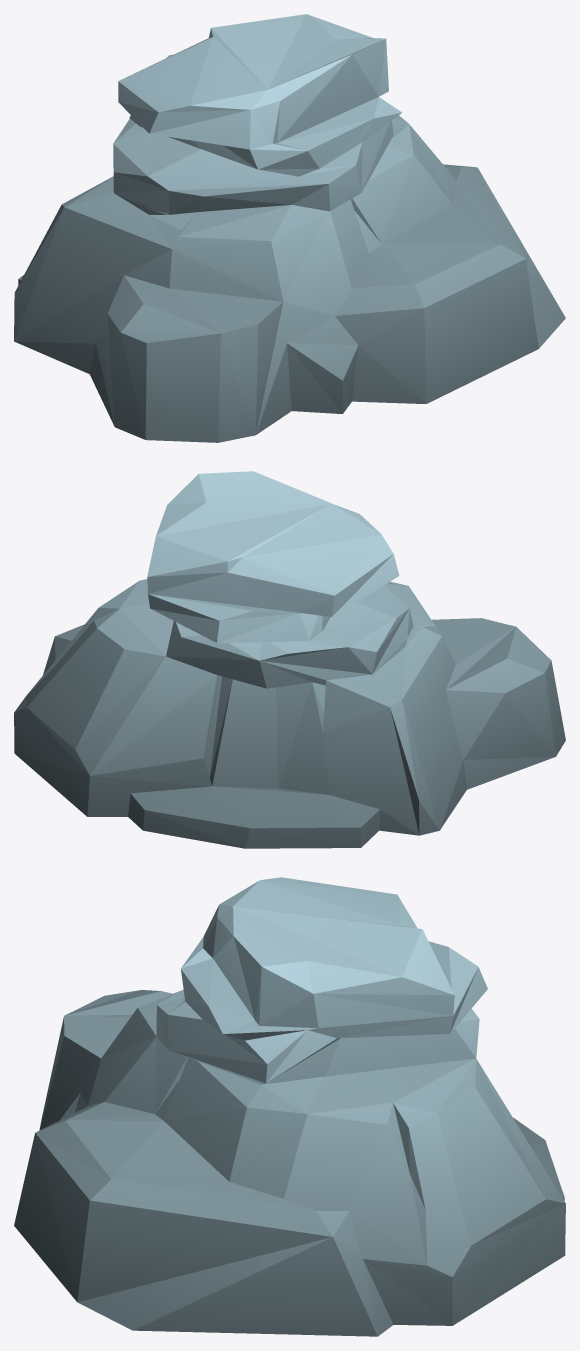
The model's file is stone large gray blue 4.fbx.
3 views of the same model, one above another, from view 1: azimuth 30°, elevation 25°; view 2: azimuth 150°, elevation 25°; view 3: azimuth 270°, elevation 25° (orthographic). The views are drawn at different scales.
Parts seen in each view (by area): view 1: stone large gray blue 4; view 2: stone large gray blue 4; view 3: stone large gray blue 4.
Boxes of the visible parts, x1,y1,x2,y2 form: stone large gray blue 4: (14, 14, 565, 442); stone large gray blue 4: (14, 471, 565, 848); stone large gray blue 4: (14, 877, 565, 1336).
Size of the model in its own units: 1223 by 688 by 1137.
